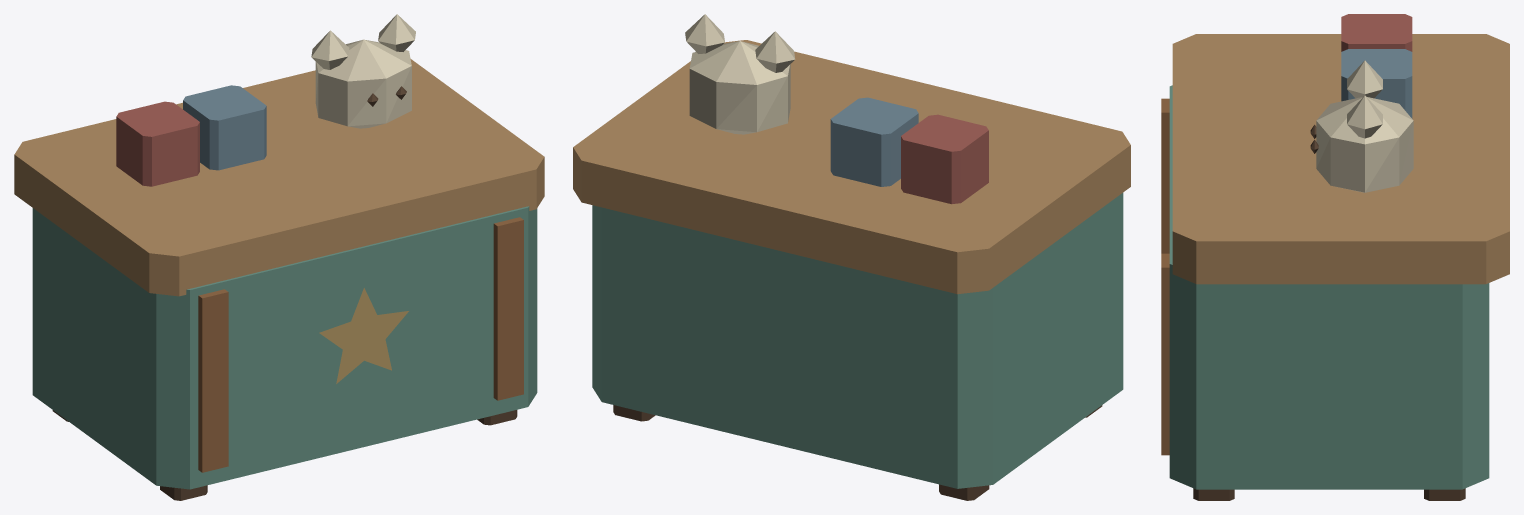
Rendered from toy_chest.glb.
The picture shows the model from 3 angles, left to right: view 1: azimuth 30°, elevation 25°; view 2: azimuth 150°, elevation 25°; view 3: azimuth 270°, elevation 25°; orthographic projection. The views are drawn at different scales.
Visible parts, largest first — view 1: geometry; view 2: geometry; view 3: geometry.
Boxes of the visible parts, bbox=[...] form: geometry: bbox=[14, 14, 544, 500]; geometry: bbox=[573, 14, 1130, 500]; geometry: bbox=[1161, 14, 1509, 500].
Bounding box in the file's own units: 0.83 × 0.715 × 0.593.
